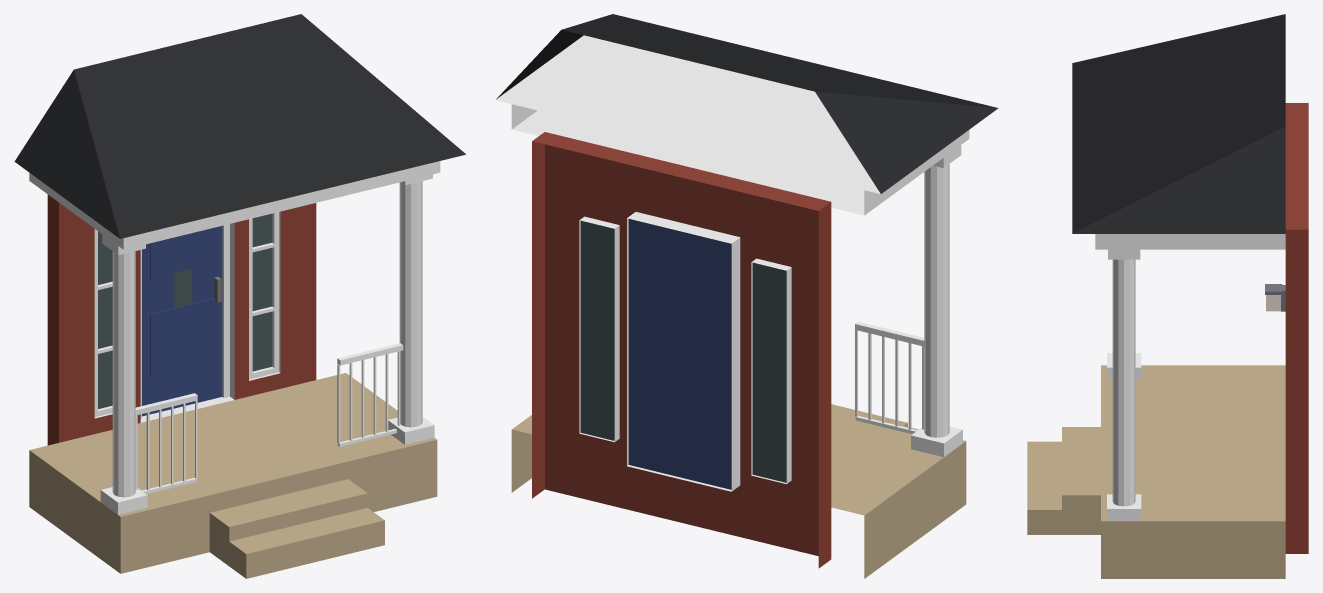
The model's file is entrance_close.fbx.
The picture shows the model from 3 angles, left to right: view 1: azimuth 30°, elevation 25°; view 2: azimuth 150°, elevation 25°; view 3: azimuth 270°, elevation 25°; orthographic projection. The views are drawn at different scales.
Parts seen in each view (by area): view 1: a2000/200/entrance_close; view 2: a2000/200/entrance_close; view 3: a2000/200/entrance_close.
Part boxes in pixels (bbox=[...]): a2000/200/entrance_close: bbox=[14, 14, 465, 578]; a2000/200/entrance_close: bbox=[495, 14, 998, 578]; a2000/200/entrance_close: bbox=[1027, 14, 1308, 578].
Size of the model in its own units: 3.5 by 4.12 by 2.44.
